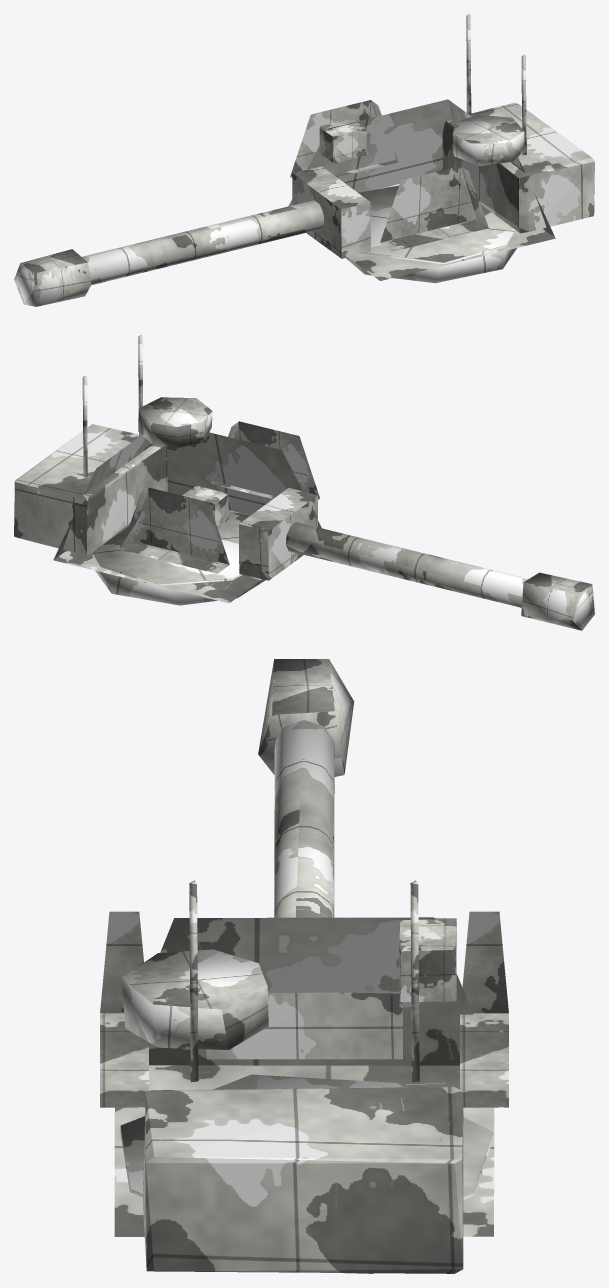
File: heavy_tank_turret_lod.glb
3 views of the same model, one above another, from view 1: azimuth 30°, elevation 25°; view 2: azimuth 150°, elevation 25°; view 3: azimuth 270°, elevation 25° (orthographic). The views are drawn at different scales.
Visible parts, largest first — view 1: heavy_tank_turret_lod; view 2: heavy_tank_turret_lod; view 3: heavy_tank_turret_lod.
Part boxes in pixels (bbox=[...]): heavy_tank_turret_lod: bbox=[14, 14, 594, 306]; heavy_tank_turret_lod: bbox=[14, 335, 594, 630]; heavy_tank_turret_lod: bbox=[100, 659, 508, 1273].
Bounding box in the file's own units: 4.7 × 1.61 × 1.57.
Materials: 1 (1 with a texture image).
